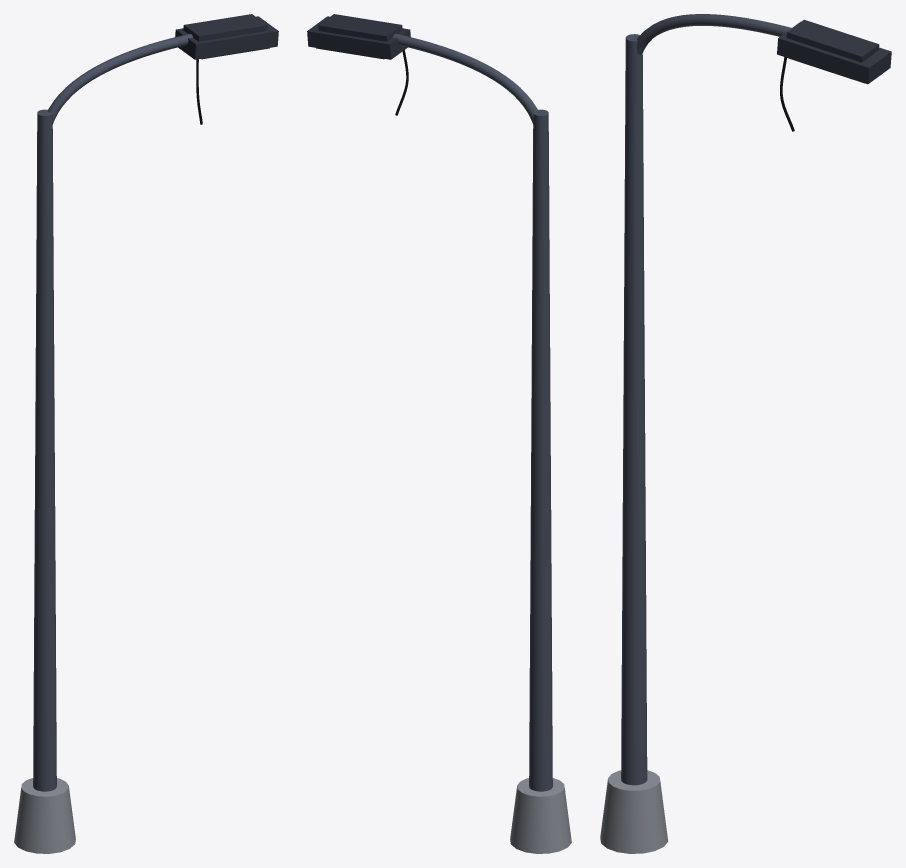
The model's file is poste-apagado.glb.
3 renders of one model, left to right at view 1: azimuth 30°, elevation 25°; view 2: azimuth 150°, elevation 25°; view 3: azimuth 330°, elevation 25°, orthographic. The views are drawn at different scales.
Visible parts, largest first — view 1: Poste_Haste, Poste_Base, Luminaria_Carcaca, Poste_Braco, Luminaria_Topo; view 2: Poste_Haste, Poste_Base, Luminaria_Carcaca, Poste_Braco, Luminaria_Topo; view 3: Poste_Haste, Poste_Base, Luminaria_Carcaca, Poste_Braco, Luminaria_Topo.
Part boxes in pixels (x1,y1,x2,y2): Poste_Haste: (33,109,56,791); Poste_Base: (14,778,75,853); Luminaria_Carcaca: (175,16,278,59); Poste_Braco: (47,33,192,124); Luminaria_Topo: (183,14,267,41); Poste_Haste: (529,109,552,791); Poste_Base: (510,778,571,853); Luminaria_Carcaca: (307,16,410,59); Poste_Braco: (393,33,538,124); Luminaria_Topo: (318,14,402,41); Poste_Haste: (621,34,647,785); Poste_Base: (600,770,668,853); Luminaria_Carcaca: (777,21,891,84); Poste_Braco: (636,14,791,55); Luminaria_Topo: (786,19,879,62).
Bounding box in the file's own units: 2.41 × 7.13 × 0.52.
